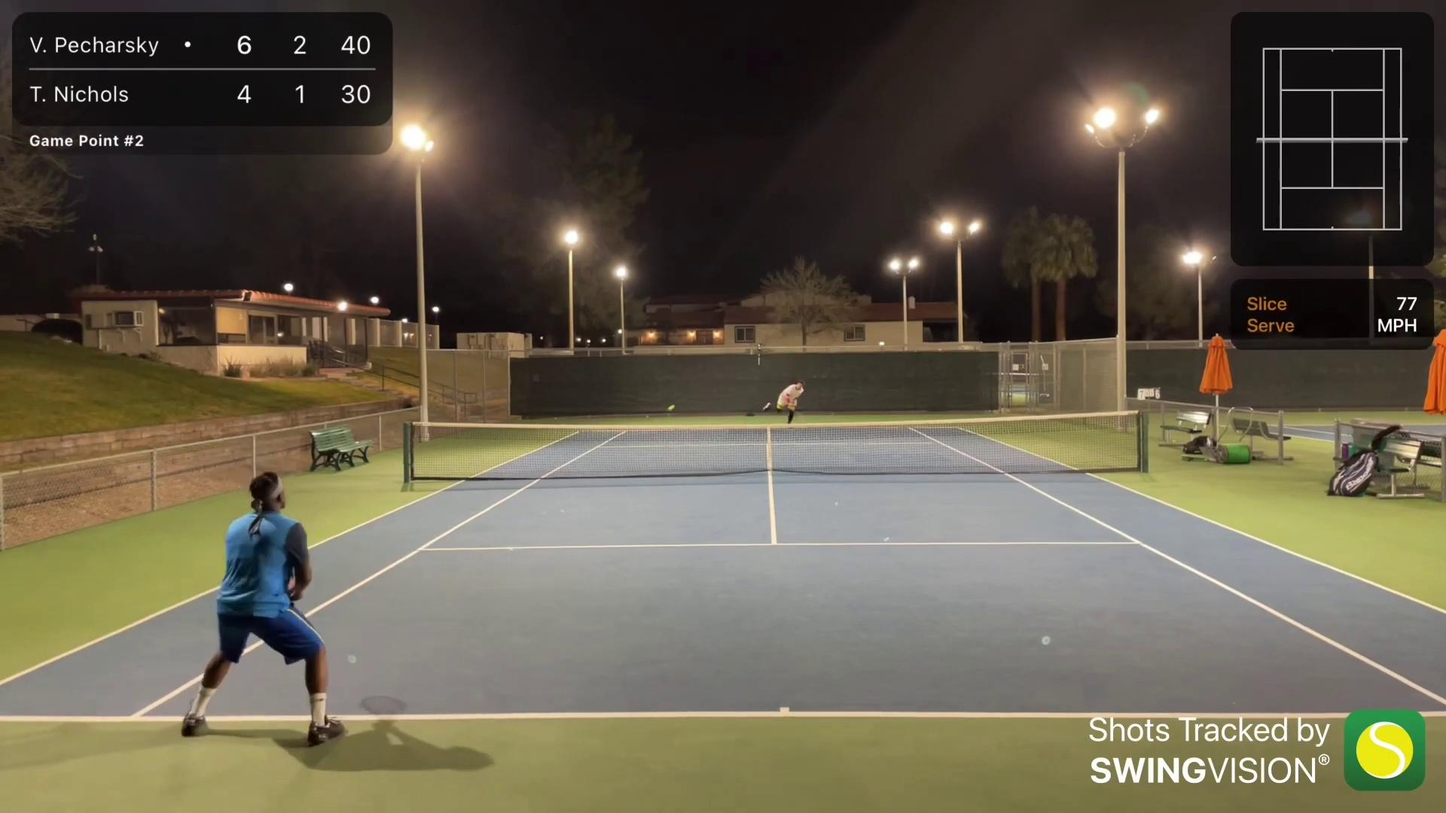ball: (664, 403, 675, 417)
